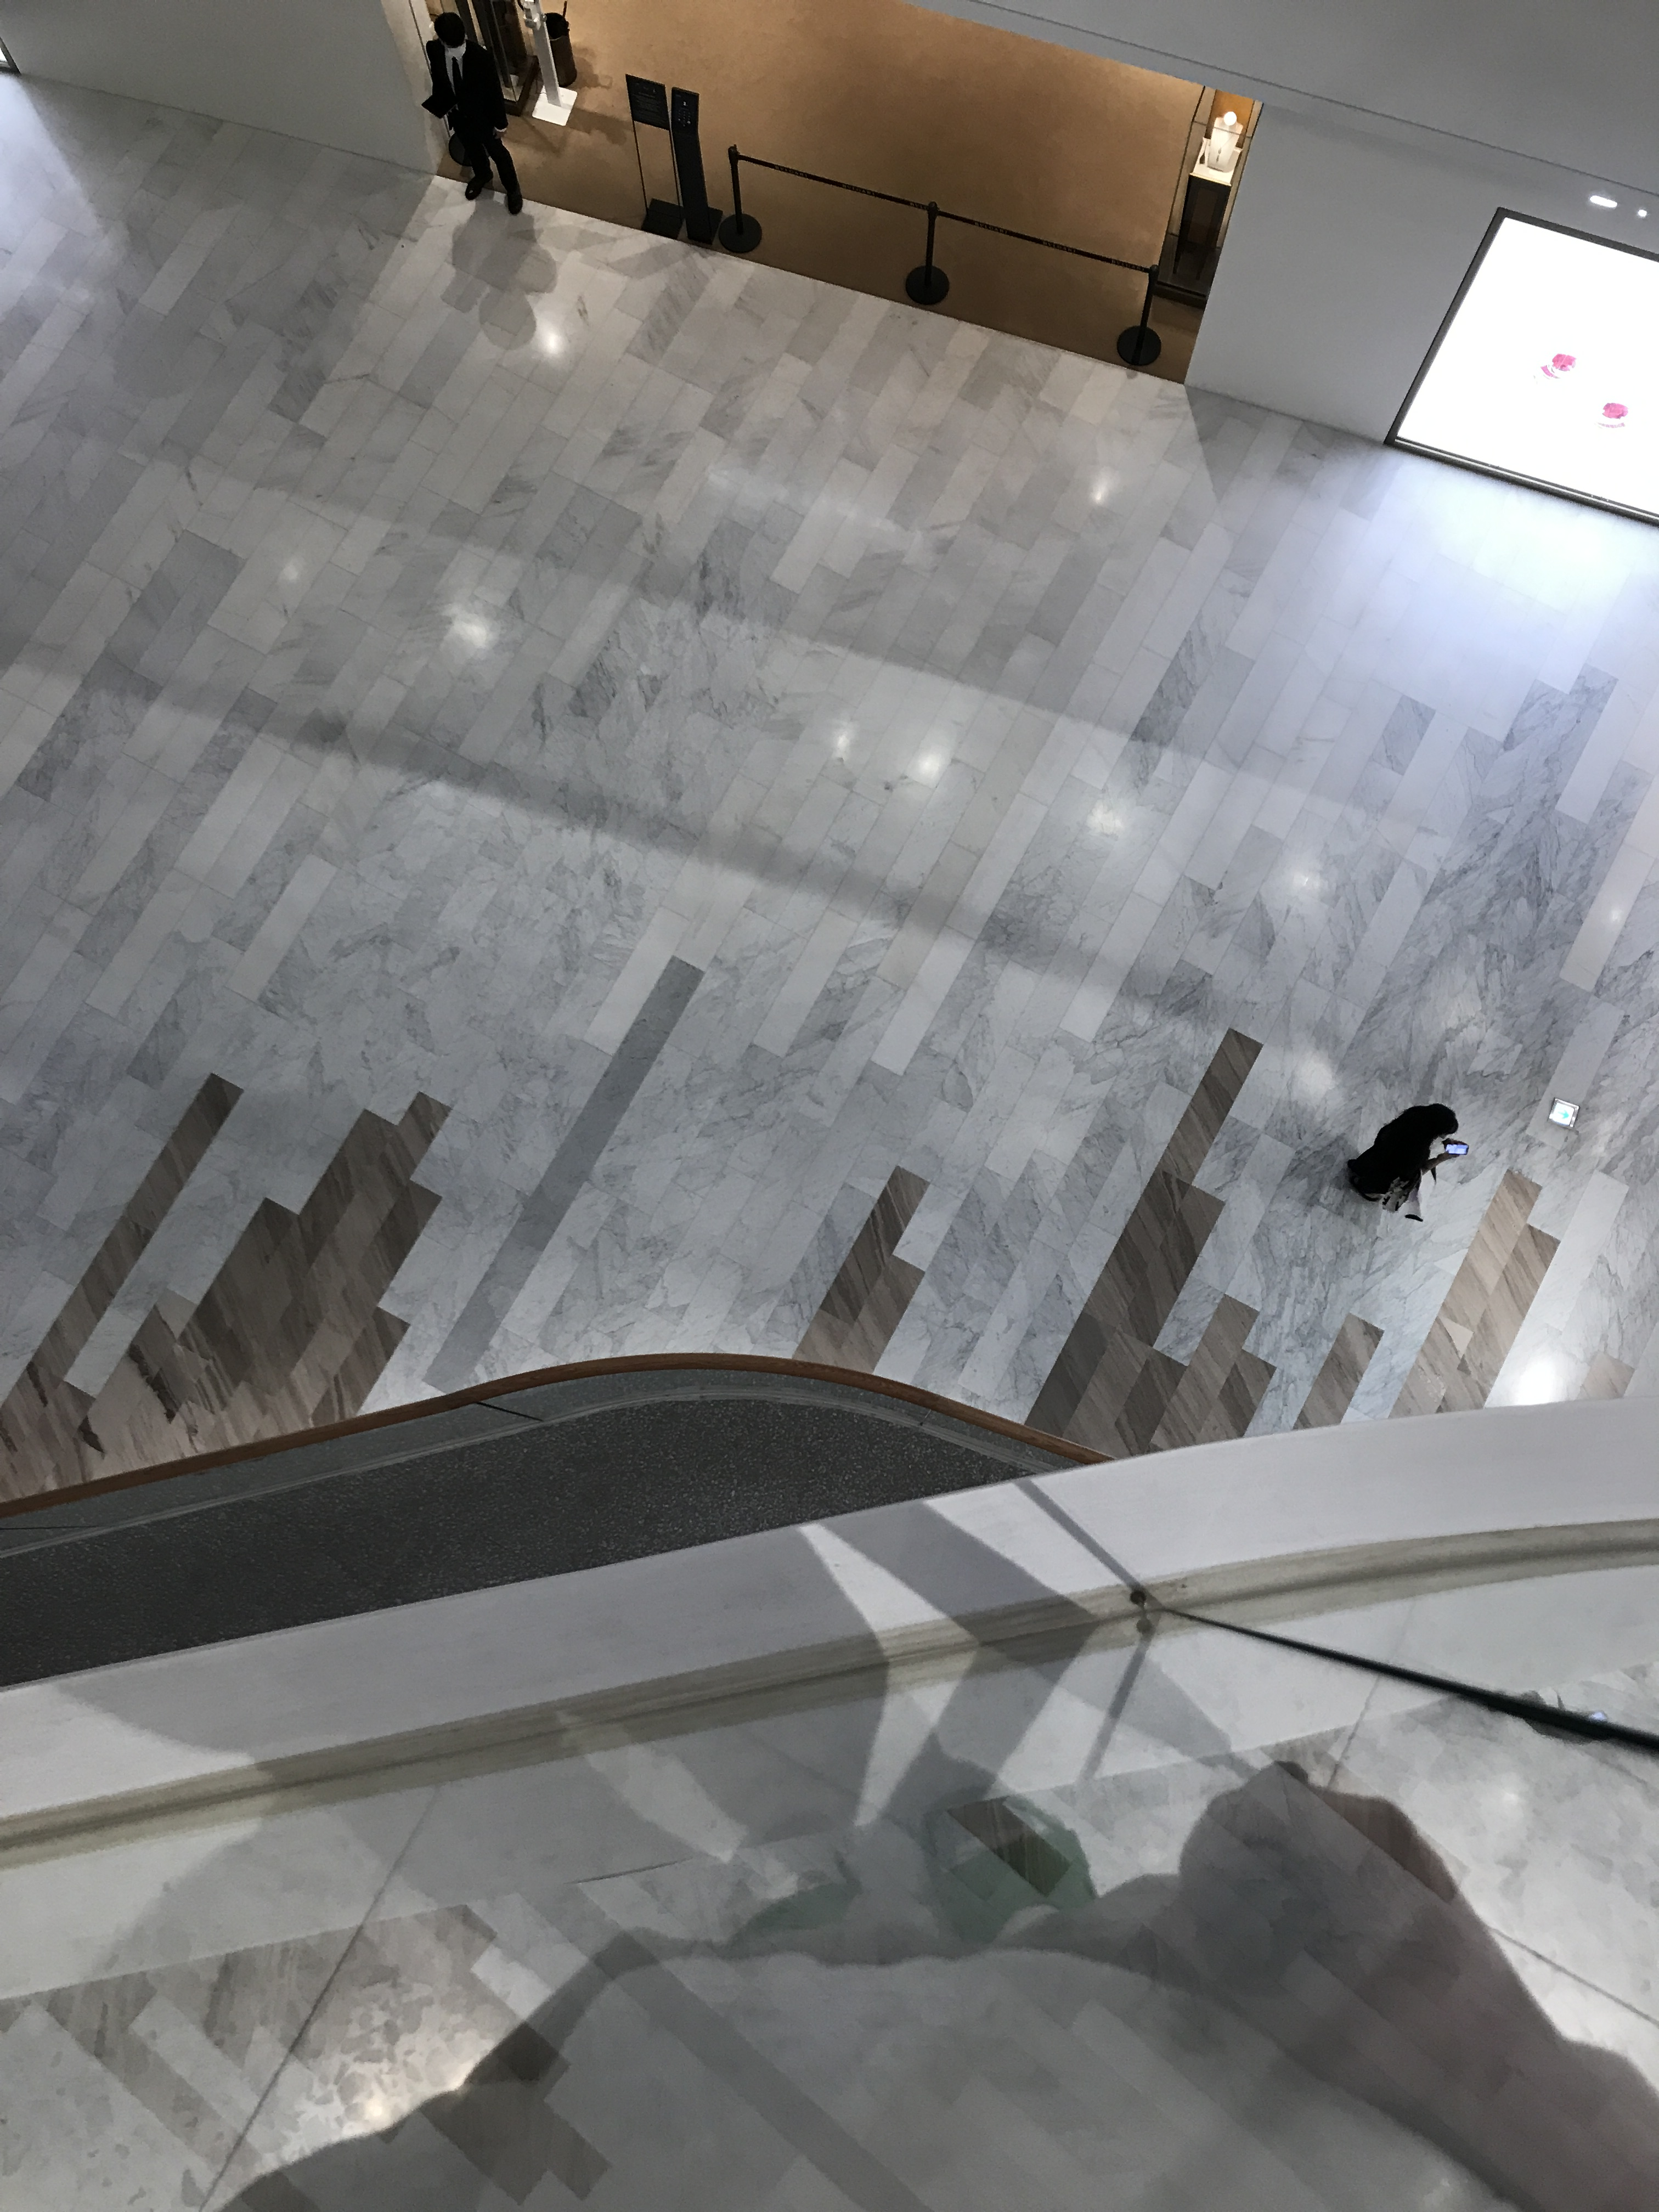person: (422, 12, 523, 216), (1336, 1100, 1463, 1229)
